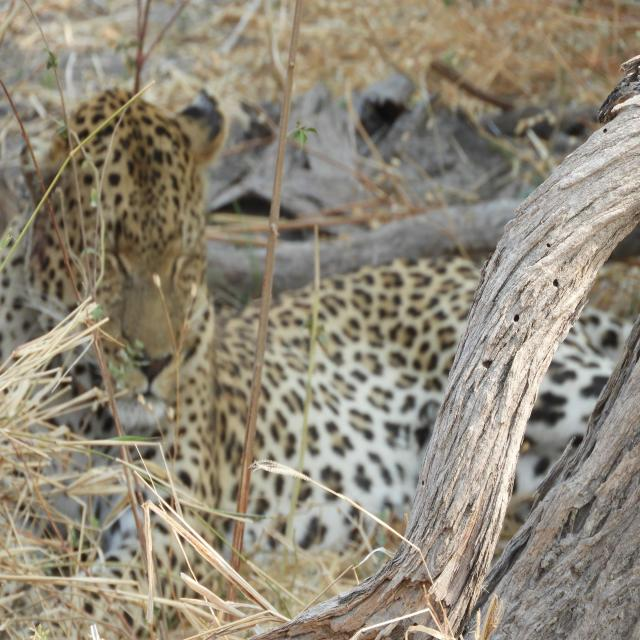Leopard: (0, 90, 622, 634)
